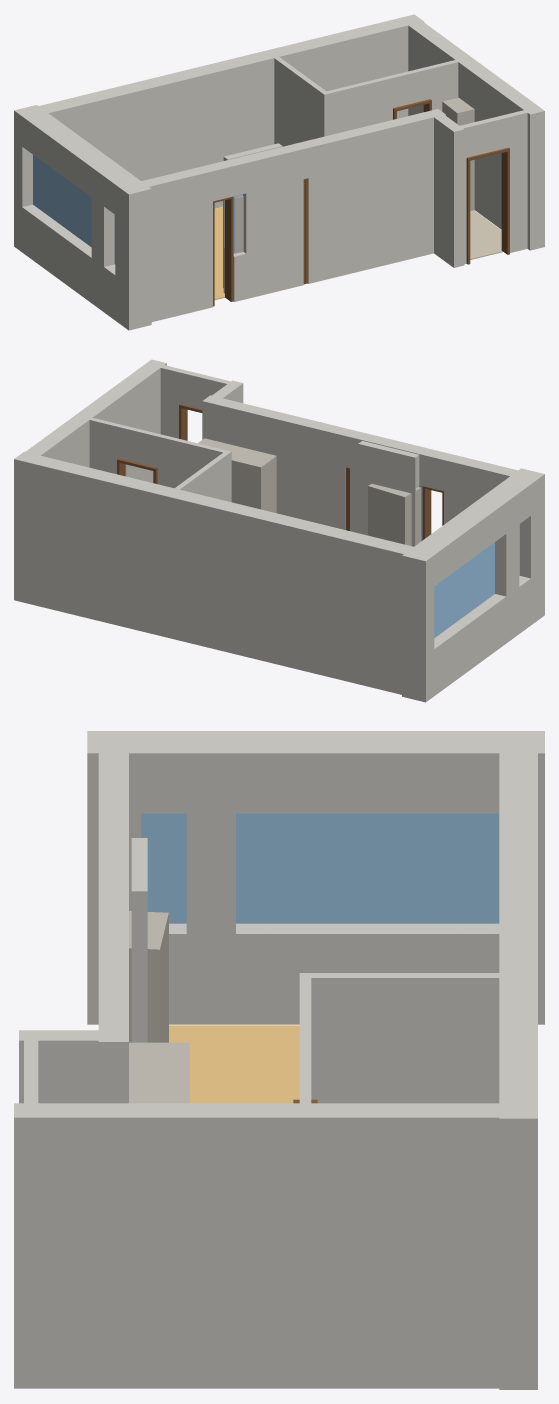
The picture shows the model from 3 angles, top to bottom: view 1: azimuth 30°, elevation 25°; view 2: azimuth 150°, elevation 25°; view 3: azimuth 270°, elevation 25°; orthographic projection. The views are drawn at different scales.
Parts seen in each view (by area): view 1: walls, window_2, door_0, floor_1_Entry, door_5, furniture_0_closet, floor_0_Kitchen, furniture_2_closet, door_6; view 2: walls, window_2, furniture_1_closet, furniture_2_closet, door_5; view 3: walls, window_2, floor_0_Kitchen, window_4, furniture_1_closet, furniture_2_closet, sill_2.
Part boxes in pixels (x1,y1,x2,y2): walls: (14,14,544,330); window_2: (33,155,91,247); door_0: (466,147,509,264); floor_1_Entry: (470,210,502,259); door_5: (213,196,233,306); furniture_0_closet: (442,97,474,210); floor_0_Kitchen: (214,207,224,299); furniture_2_closet: (223,196,243,287); door_6: (303,178,307,284); walls: (14,359,544,702); window_2: (434,542,494,637); furniture_1_closet: (198,438,276,513); furniture_2_closet: (368,484,421,545); door_5: (422,486,443,539); walls: (14,731,544,1389); window_2: (236,813,499,923); floor_0_Kitchen: (169,1025,299,1103); window_4: (141,813,186,923); furniture_1_closet: (129,1042,189,1103); furniture_2_closet: (129,911,168,1042); sill_2: (236,923,499,929).
Size of the model in its own units: 8.28 by 2.72 by 4.79.
